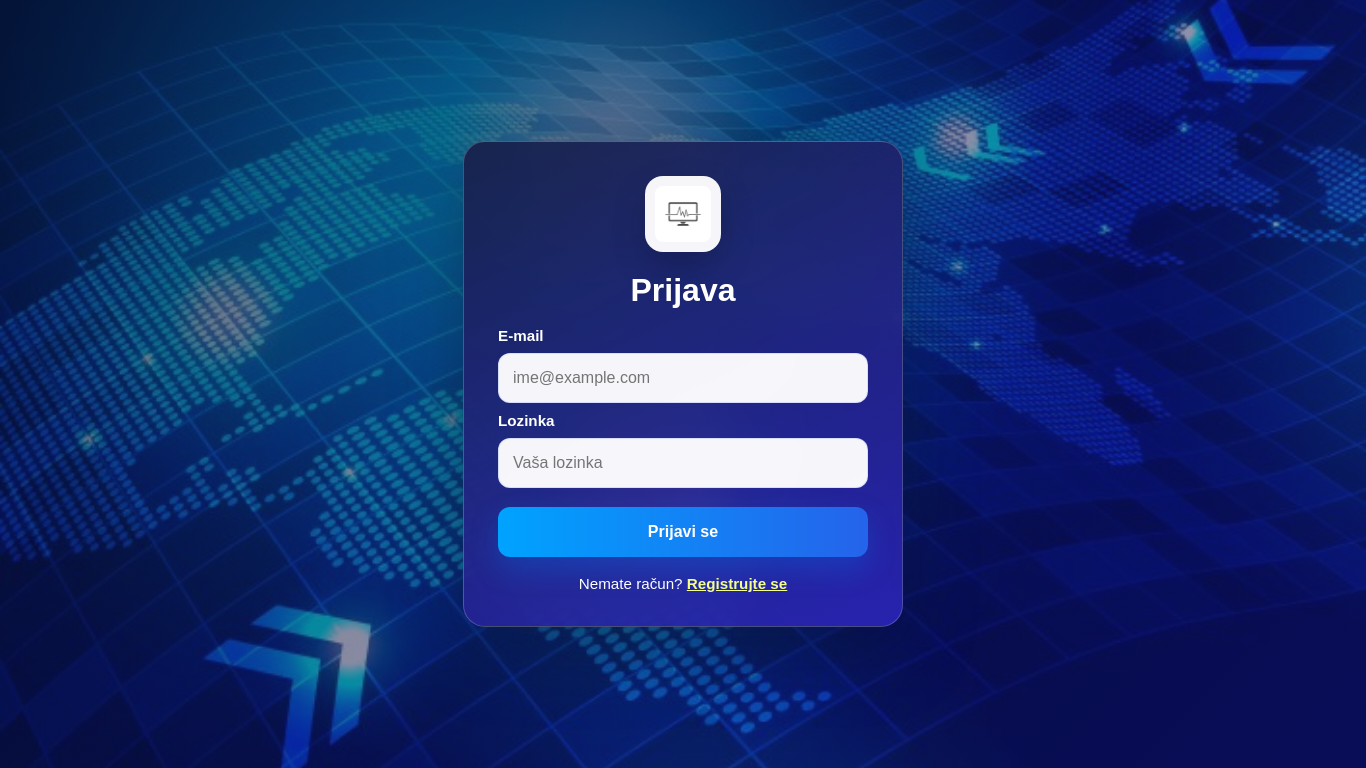
Scenario: login redirects unverified users to verification page
Type "pending@example.com" into the field labelled "E-mail".
click(683, 378); type("pending@example.com")  # box left=498, top=353, right=868, bottom=403
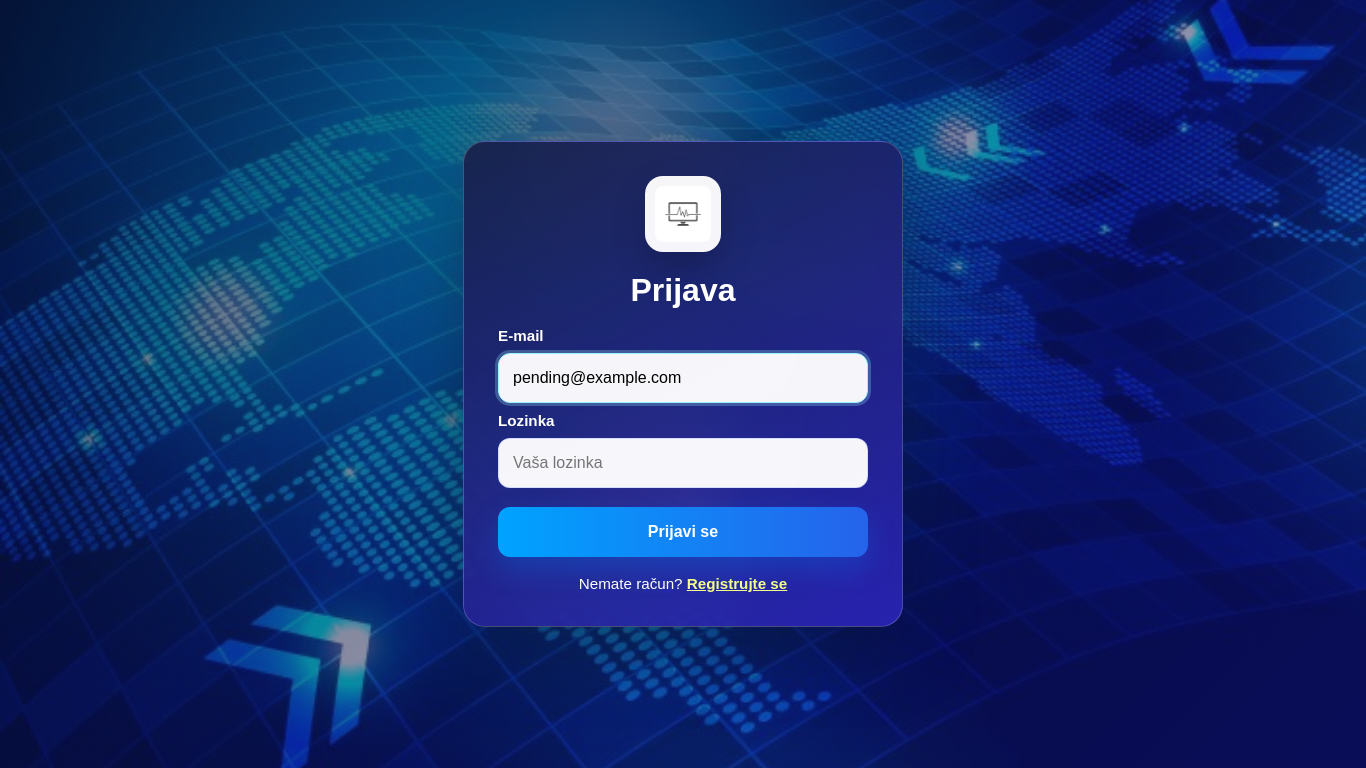
Type "Password123" into the password field labelled "Lozinka".
click(683, 463); type("Password123")  # box left=498, top=438, right=868, bottom=488
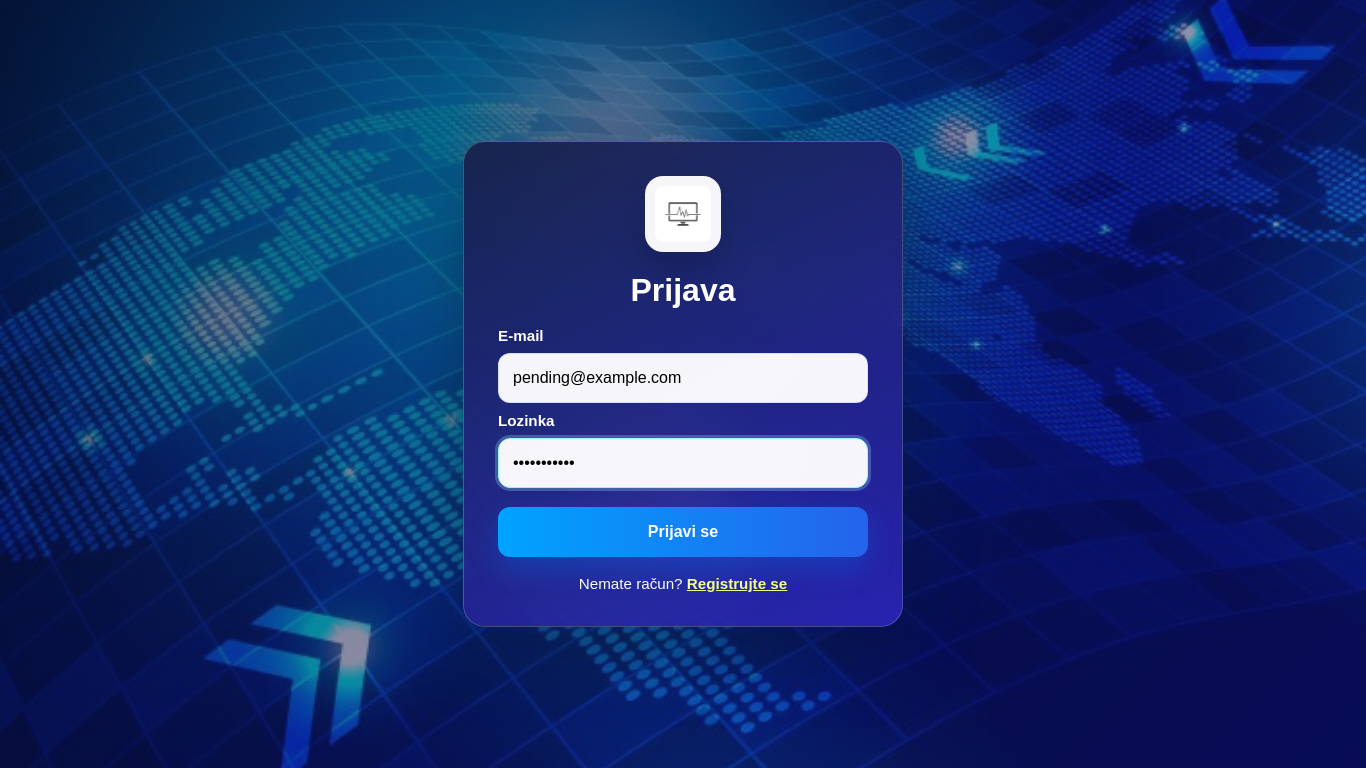
Click the button "Prijavi se".
click(683, 532)  # box left=498, top=507, right=868, bottom=557
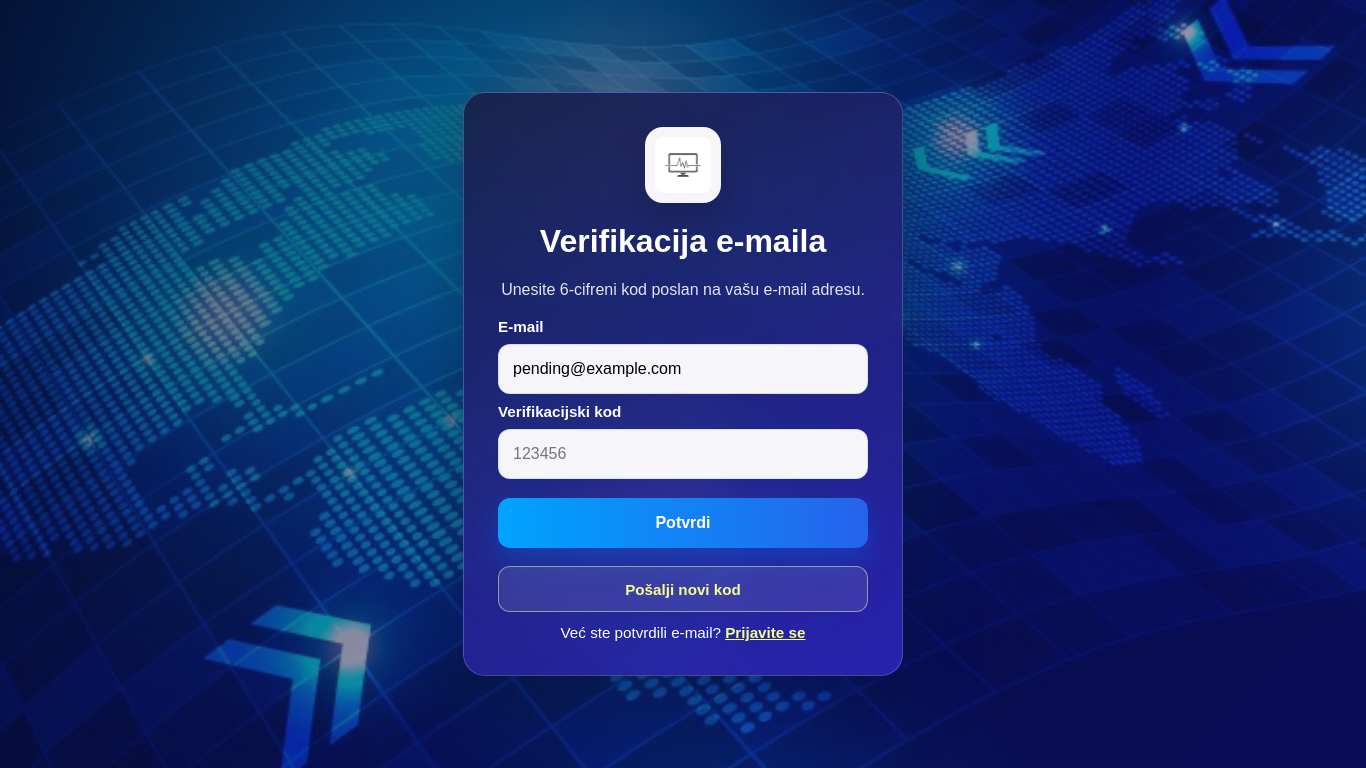
expect the heading "Verifikacija e-maila" is shown: met, box left=540, top=223, right=826, bottom=259
expect the field labelled "E-mail" holds "pending@example.com": met, box left=498, top=344, right=868, bottom=394
